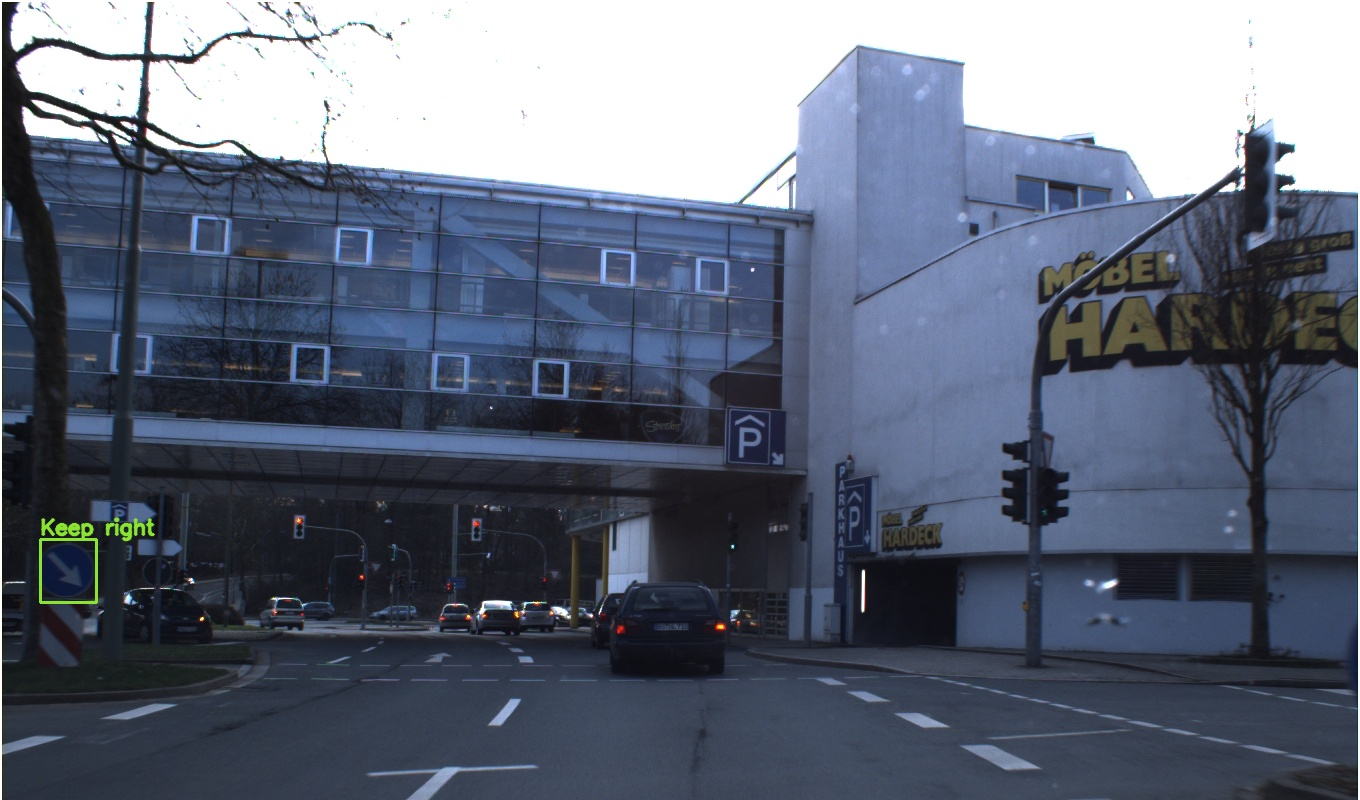Turn left ahead: (717, 445, 735, 462)
